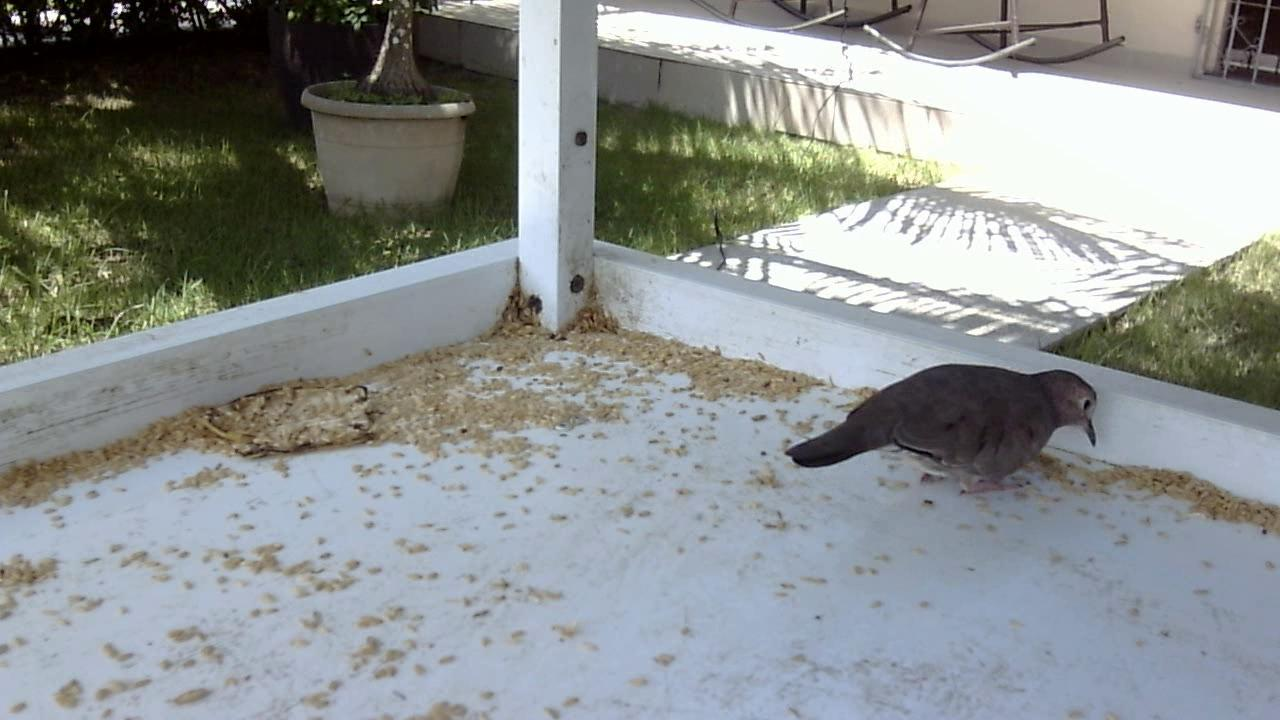rolinha: (778, 349, 1098, 507)
